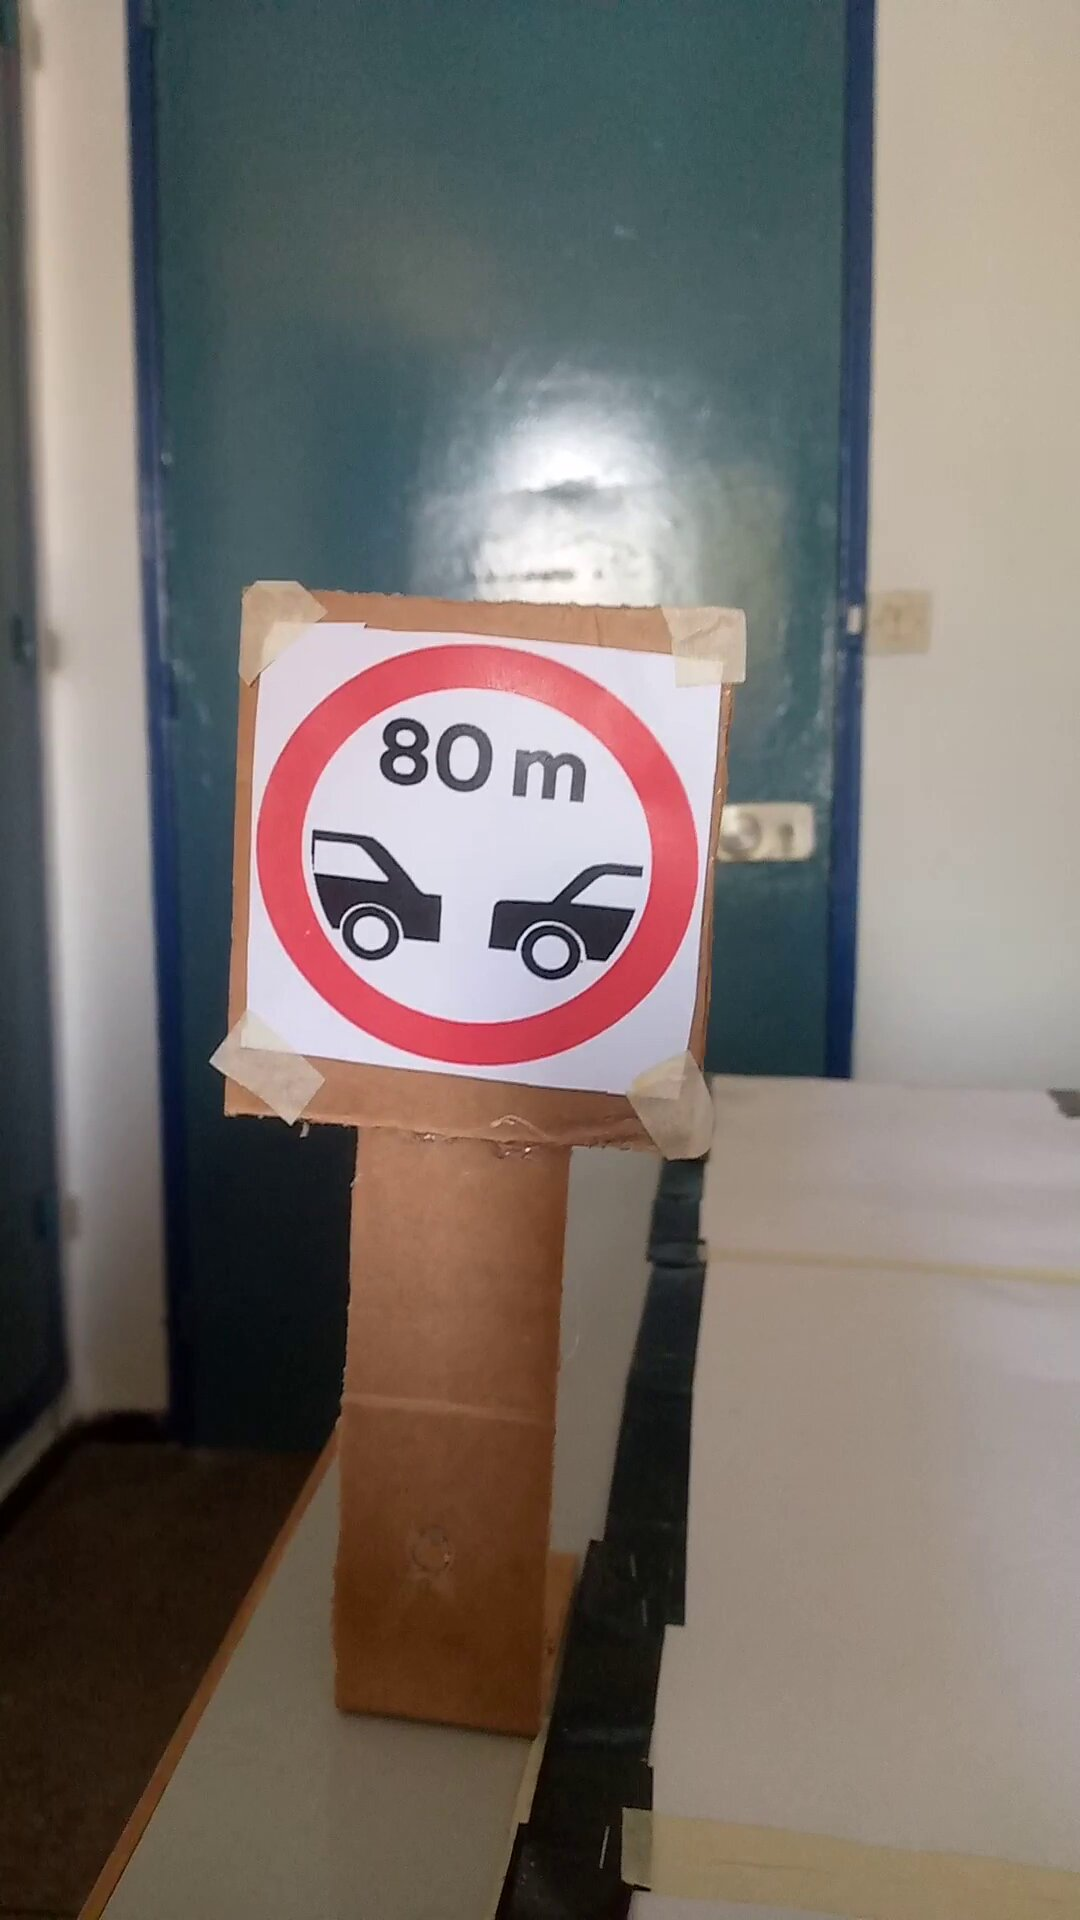panel001: (229, 571, 738, 1151)
